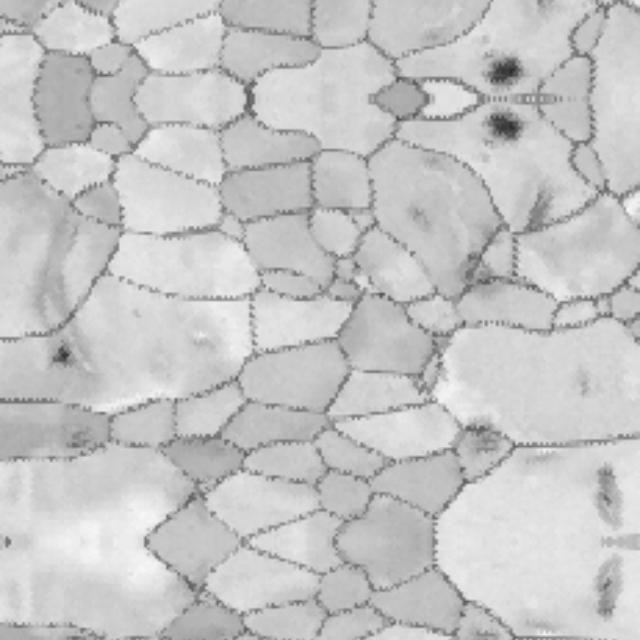good_void: (585, 455, 628, 532), (585, 551, 628, 627), (472, 105, 532, 157), (472, 39, 532, 91), (453, 233, 498, 299), (399, 195, 447, 240), (515, 188, 555, 240), (418, 328, 457, 380), (459, 408, 500, 457), (63, 418, 103, 455), (568, 362, 596, 400), (45, 342, 82, 366), (63, 628, 103, 640), (466, 626, 499, 640)
